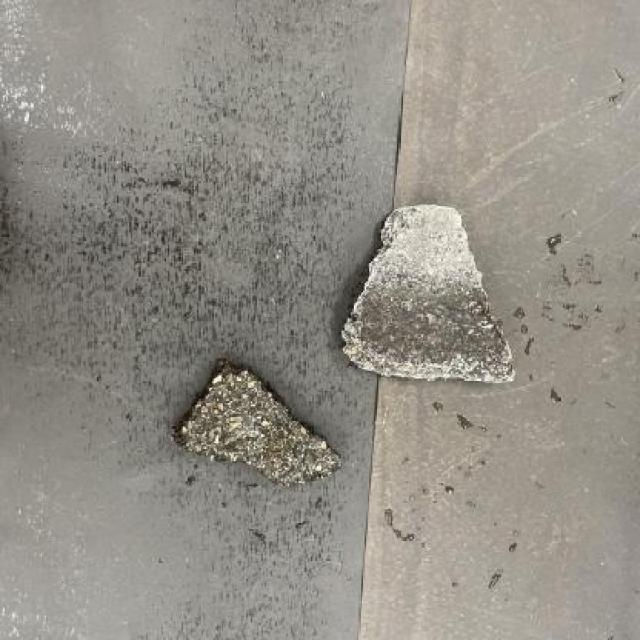Road Debris: (188, 357, 334, 475), (348, 310, 517, 384)
